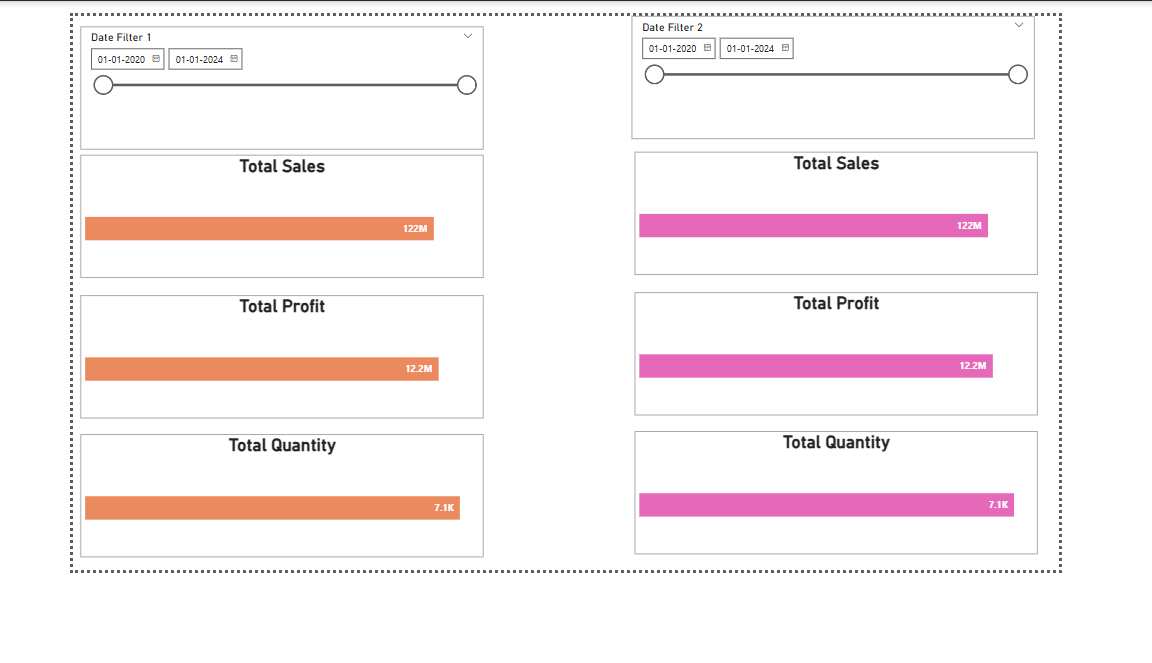

This screenshot's page, from the dashboard's own definition file:
{"tool":"powerbi","page":{"name":"Edit Interaction ","canvas":[1280,720],"ordinal":3},"visuals":[{"type":"slicer","fields":{"Values":["Fact Table.Date (dd/mm/yyyy)"]},"box":[9.7,12.9,522.9,159.8],"z":0},{"type":"slicer","fields":{"Values":["Fact Table.Date (dd/mm/yyyy)"]},"box":[726.2,0,522.9,159.8],"z":1000},{"type":"barChart","title":"Total Sales","fields":{"Y":["Sum(Fact Table.Net Sales)"]},"box":[9.7,180.7,522.9,159.8],"z":2000},{"type":"barChart","title":"Total Profit","fields":{"Y":["Sum(Fact Table.Profit)"]},"box":[9.7,363.1,522.9,159.8],"z":3000},{"type":"barChart","title":"Total Quantity","fields":{"Y":["Sum(Fact Table.Units Sold)"]},"box":[9.7,542.2,522.9,159.8],"z":4000},{"type":"barChart","title":"Total Sales","fields":{"Y":["Sum(Fact Table.Net Sales)"]},"box":[729.3,176.9,522.9,159.8],"z":5000},{"type":"barChart","title":"Total Profit","fields":{"Y":["Sum(Fact Table.Profit)"]},"box":[729.3,359.2,522.9,159.8],"z":6000},{"type":"barChart","title":"Total Quantity","fields":{"Y":["Sum(Fact Table.Units Sold)"]},"box":[729.3,538.3,522.9,159.8],"z":7000}]}

Visuals, with their boxes in screenshot pixels (x1, y1, x2, y2), scaled from the page's 1280x720 canvas onto the 1152x663 screenshot:
slicer - Fact Table.Date (dd/mm/yyyy): rect(9, 12, 479, 159)
slicer - Fact Table.Date (dd/mm/yyyy): rect(654, 0, 1124, 147)
"Total Sales" barChart: rect(9, 166, 479, 314)
"Total Profit" barChart: rect(9, 334, 479, 482)
"Total Quantity" barChart: rect(9, 499, 479, 646)
"Total Sales" barChart: rect(656, 163, 1127, 310)
"Total Profit" barChart: rect(656, 331, 1127, 478)
"Total Quantity" barChart: rect(656, 496, 1127, 643)
